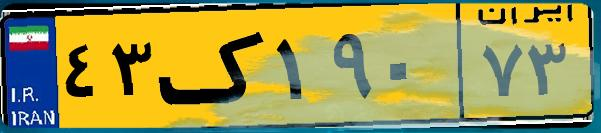0: (385, 28, 445, 110)
1: (270, 28, 330, 110)
3: (525, 38, 570, 115), (110, 28, 158, 98)
4: (57, 26, 110, 100)
7: (475, 38, 525, 113)
9: (330, 28, 385, 110)
ک: (158, 12, 270, 120)
